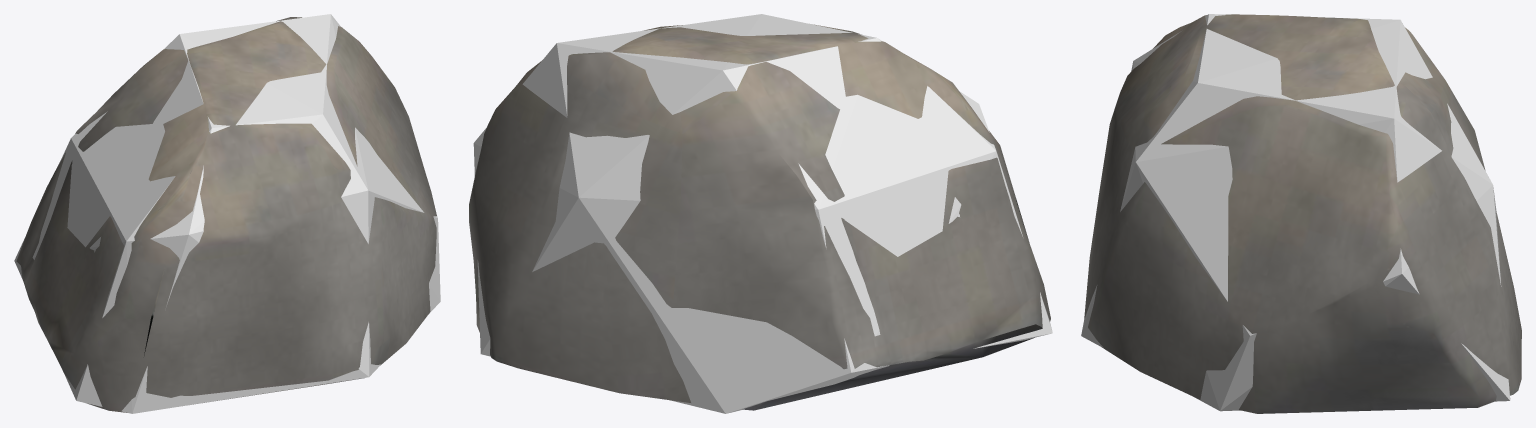
File: IO_Stone_Small_A.glb
3 views of the same model, side by side, from view 1: azimuth 30°, elevation 25°; view 2: azimuth 150°, elevation 25°; view 3: azimuth 270°, elevation 25° (orthographic). The views are drawn at different scales.
Visible parts, largest first — view 1: IO_Stone_Small_A_LOD0, IO_Stone_Small_A_COL; view 2: IO_Stone_Small_A_LOD0, IO_Stone_Small_A_COL; view 3: IO_Stone_Small_A_LOD0, IO_Stone_Small_A_COL.
Part boxes in pixels (bbox=[...]): IO_Stone_Small_A_LOD0: bbox=[16, 17, 436, 412]; IO_Stone_Small_A_COL: bbox=[14, 14, 440, 413]; IO_Stone_Small_A_LOD0: bbox=[469, 24, 1050, 410]; IO_Stone_Small_A_COL: bbox=[473, 14, 1052, 413]; IO_Stone_Small_A_LOD0: bbox=[1084, 14, 1521, 413]; IO_Stone_Small_A_COL: bbox=[1081, 14, 1510, 411].
Size of what is drawn, in the model's own units: 0.4467 by 0.2634 by 0.3605.
1 material, 1 textured.
